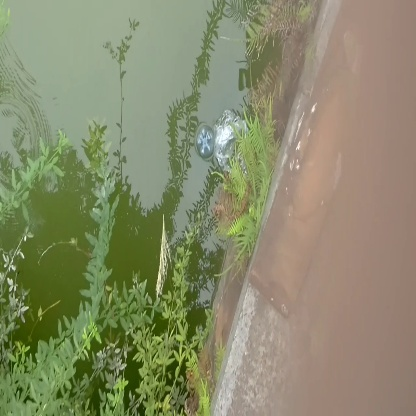bottle: (192, 120, 217, 158)
